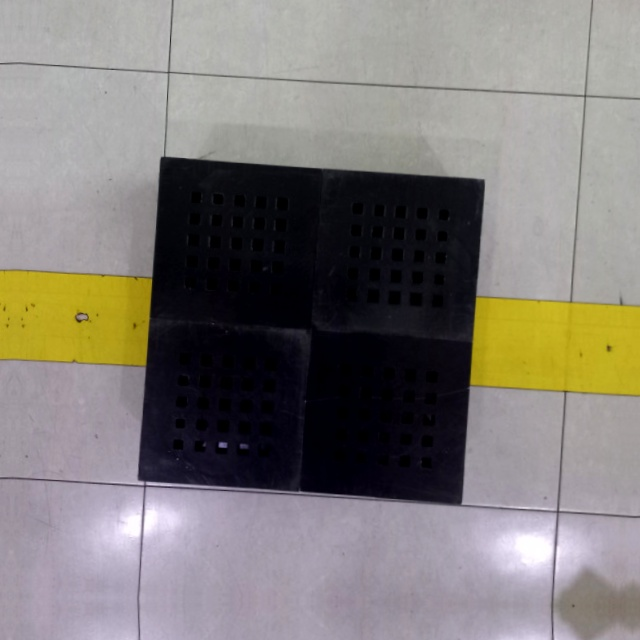pallet: (130, 144, 496, 523)
